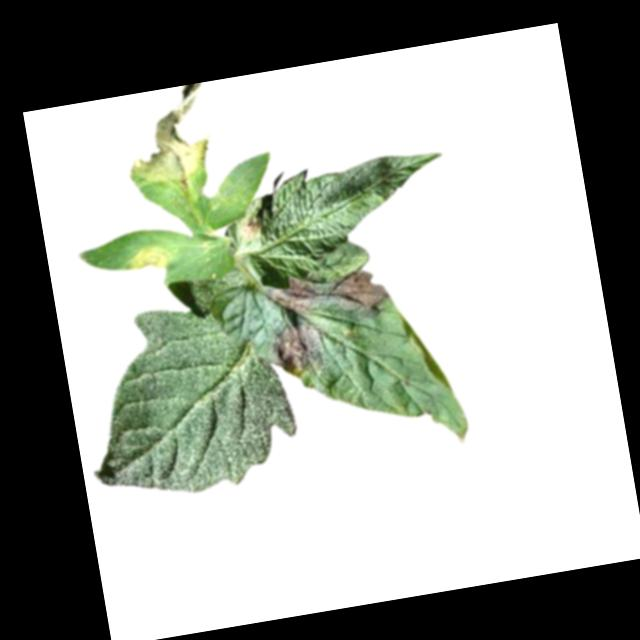Late_blight: (113, 82, 219, 197), (318, 263, 393, 327), (262, 319, 331, 383), (259, 274, 319, 320), (117, 240, 174, 277), (235, 214, 264, 245)
healthy: (66, 289, 304, 511)
